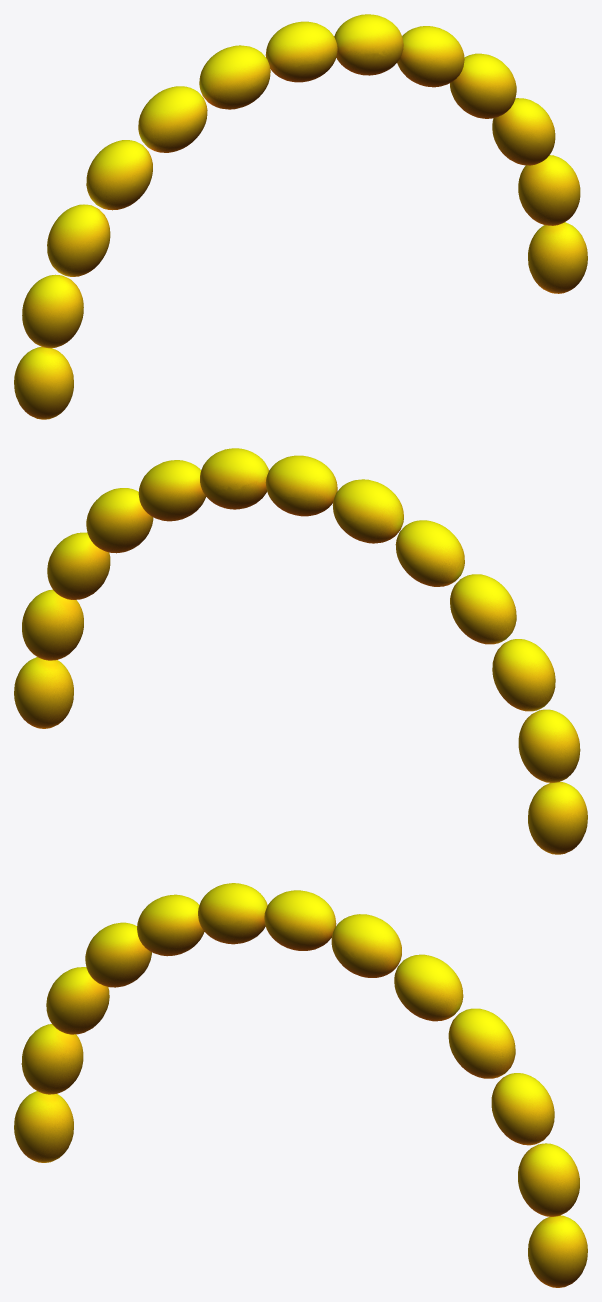
File: HalfRing.fbx
3 views of the same model, one above another, from view 1: azimuth 30°, elevation 25°; view 2: azimuth 150°, elevation 25°; view 3: azimuth 330°, elevation 25° (orthographic).
Parts seen in each view (by area): view 1: Sphere.019, Sphere.017, Sphere.015, Sphere.021, Sphere.023, Sphere.013, Sphere, Sphere.012, Sphere.010, Sphere.002, Sphere.006, Sphere.004 (+1 smaller); view 2: Sphere.019, Sphere.015, Sphere.017, Sphere.021, Sphere.023, Sphere.013, Sphere, Sphere.012, Sphere.010, Sphere.002, Sphere.006, Sphere.004 (+1 smaller); view 3: Sphere.006, Sphere.010, Sphere.008, Sphere.004, Sphere.002, Sphere.012, Sphere, Sphere.013, Sphere.023, Sphere.015, Sphere.019, Sphere.021 (+1 smaller).
Part boxes in pixels (bbox=[...]): Sphere.019: bbox=[86, 140, 152, 210]; Sphere.017: bbox=[47, 204, 110, 276]; Sphere.015: bbox=[22, 274, 83, 348]; Sphere.021: bbox=[138, 86, 207, 152]; Sphere.023: bbox=[199, 45, 270, 109]; Sphere.013: bbox=[14, 347, 73, 419]; Sphere: bbox=[265, 21, 337, 82]; Sphere.012: bbox=[528, 222, 587, 293]; Sphere.010: bbox=[518, 155, 580, 225]; Sphere.002: bbox=[334, 14, 403, 75]; Sphere.006: bbox=[450, 53, 516, 118]; Sphere.004: bbox=[397, 26, 464, 87]; Sphere.019: bbox=[450, 574, 516, 644]; Sphere.015: bbox=[518, 709, 580, 782]; Sphere.017: bbox=[492, 639, 555, 711]; Sphere.021: bbox=[395, 520, 464, 586]; Sphere.023: bbox=[332, 479, 403, 543]; Sphere.013: bbox=[528, 782, 587, 854]; Sphere: bbox=[265, 455, 337, 516]; Sphere.012: bbox=[14, 657, 73, 728]; Sphere.010: bbox=[22, 589, 83, 660]; Sphere.002: bbox=[200, 448, 268, 509]; Sphere.006: bbox=[86, 488, 153, 553]; Sphere.004: bbox=[138, 460, 206, 521]; Sphere.006: bbox=[448, 1008, 515, 1078]; Sphere.010: bbox=[518, 1143, 579, 1216]; Sphere.008: bbox=[491, 1073, 554, 1145]; Sphere.004: bbox=[394, 954, 463, 1021]; Sphere.002: bbox=[331, 914, 401, 977]; Sphere.012: bbox=[528, 1215, 587, 1287]; Sphere: bbox=[264, 890, 336, 950]; Sphere.013: bbox=[14, 1091, 73, 1162]; Sphere.023: bbox=[198, 883, 267, 944]; Sphere.015: bbox=[21, 1024, 83, 1094]; Sphere.019: bbox=[85, 922, 151, 987]; Sphere.021: bbox=[137, 894, 204, 956].
Bounding box in the file's own units: 434 × 242 × 40.98.
13 materials, 13 textured.
